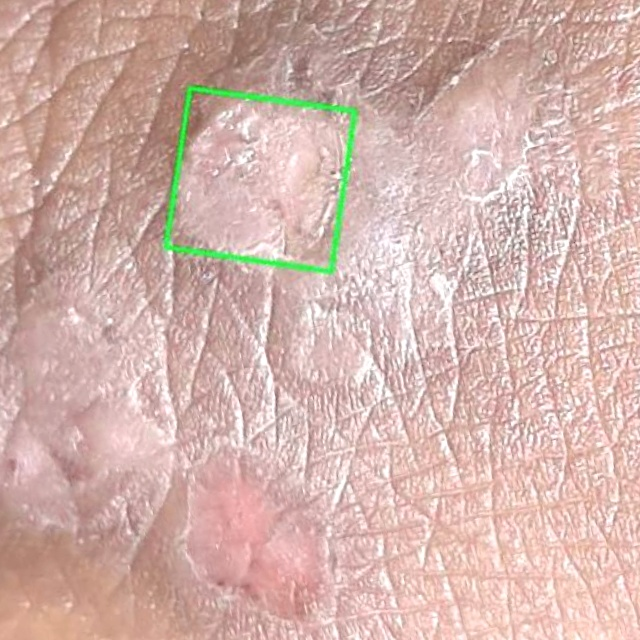Contact Dermatitis: (167, 88, 355, 272)
